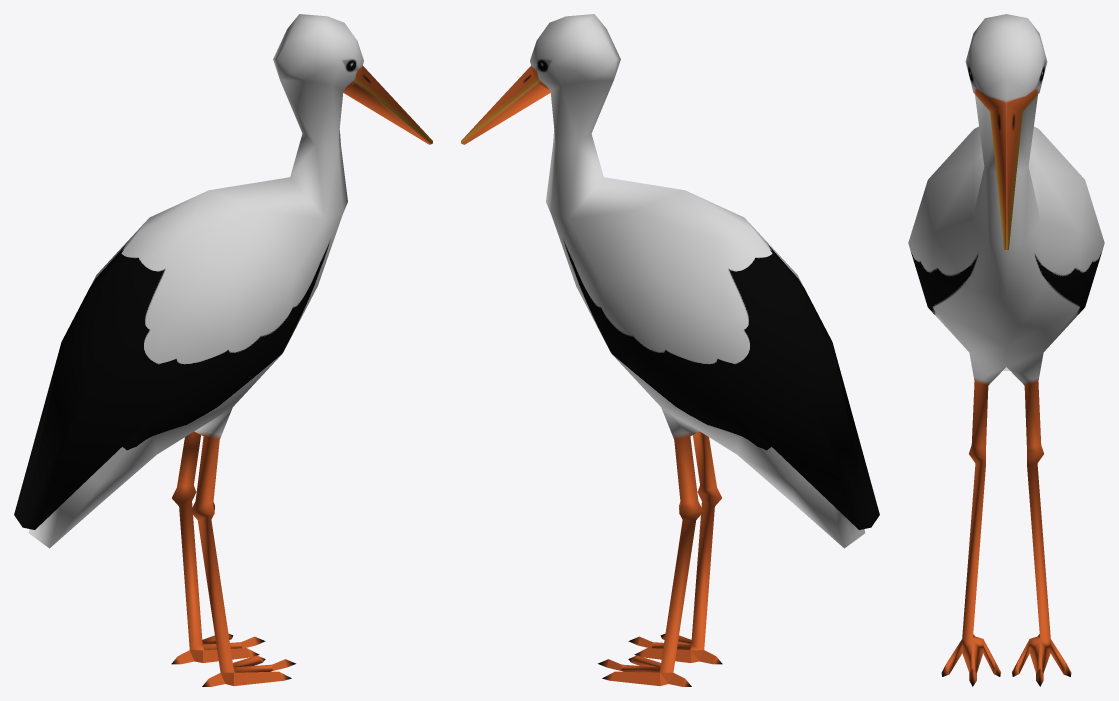
Rendered from BlackNeckedStork.glb.
3 renders of one model, left to right at view 1: azimuth 30°, elevation 25°; view 2: azimuth 150°, elevation 25°; view 3: azimuth 270°, elevation 25°, orthographic. The views are drawn at different scales.
Visible parts, largest first — view 1: node-0; view 2: node-0; view 3: node-0.
Part boxes in pixels (box(x1,y1,x2,y2)): node-0: box(14, 14, 432, 686); node-0: box(461, 14, 879, 686); node-0: box(908, 14, 1104, 686).
Bounding box in the file's own units: 0.9353 × 1.36 × 0.3543.
Materials: 1 (1 with a texture image).
